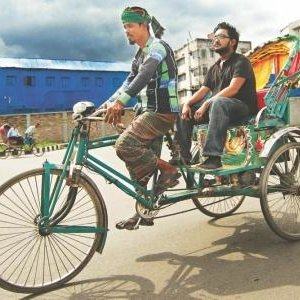Rickshaw: (6, 22, 292, 274)
